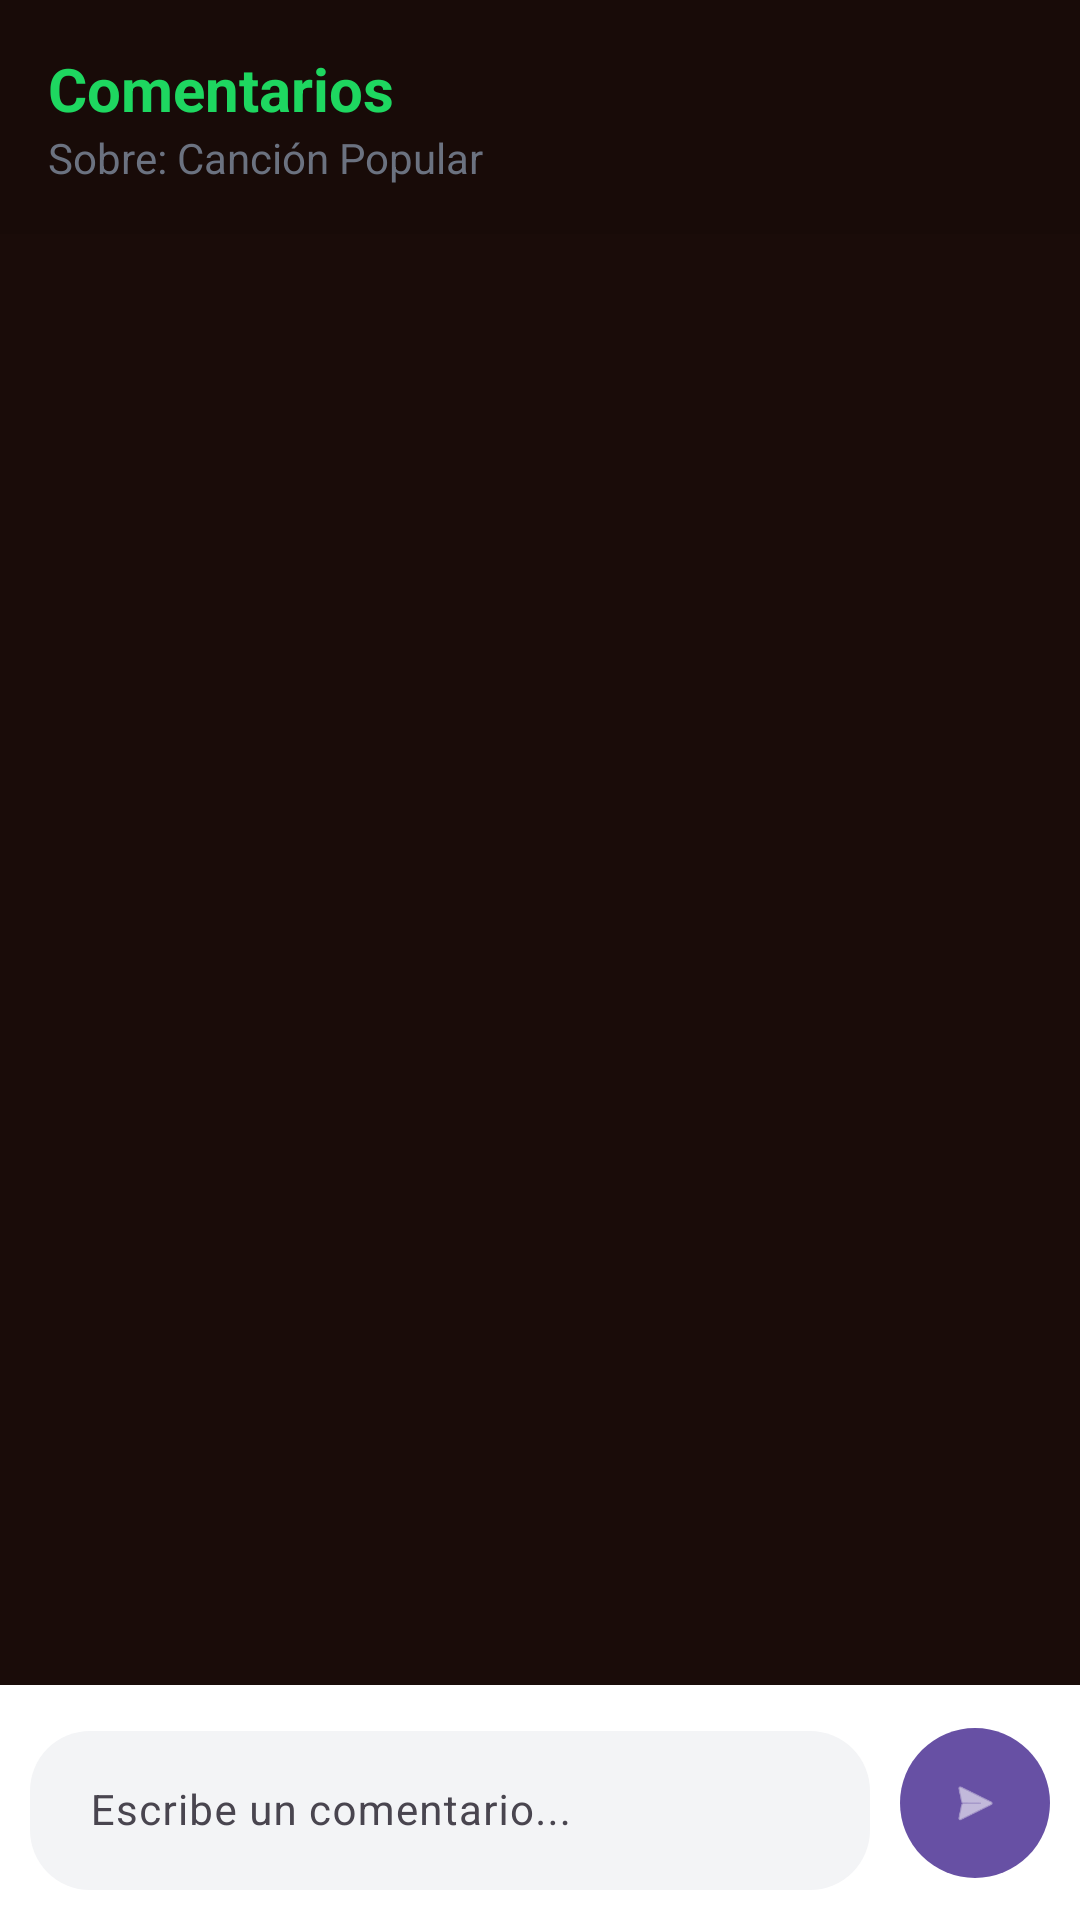

Named icons in this screenshot (1080px×1920px) and their bounding boxes, box(x1, y1, x2, y2):
send: box(900, 1728, 1050, 1878)
